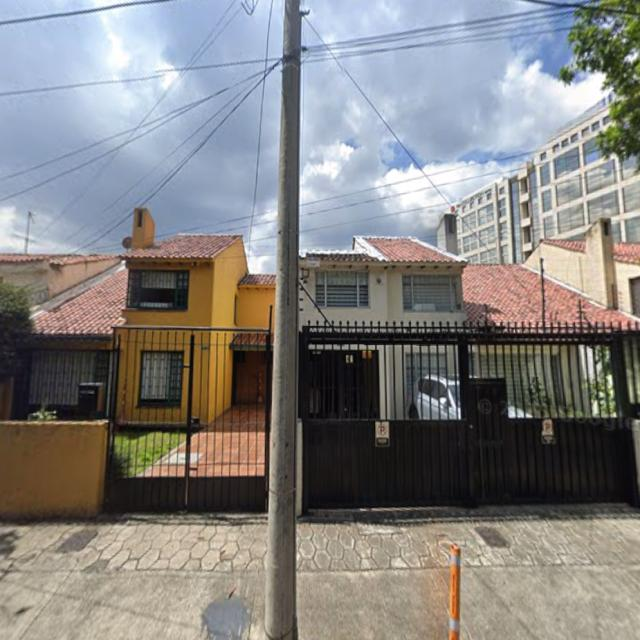fachada: (306, 265, 639, 508), (13, 209, 274, 425), (457, 99, 639, 263), (526, 220, 639, 316), (0, 254, 119, 304)
poste: (265, 0, 301, 639), (449, 545, 460, 639), (540, 257, 546, 330), (24, 212, 33, 254)
